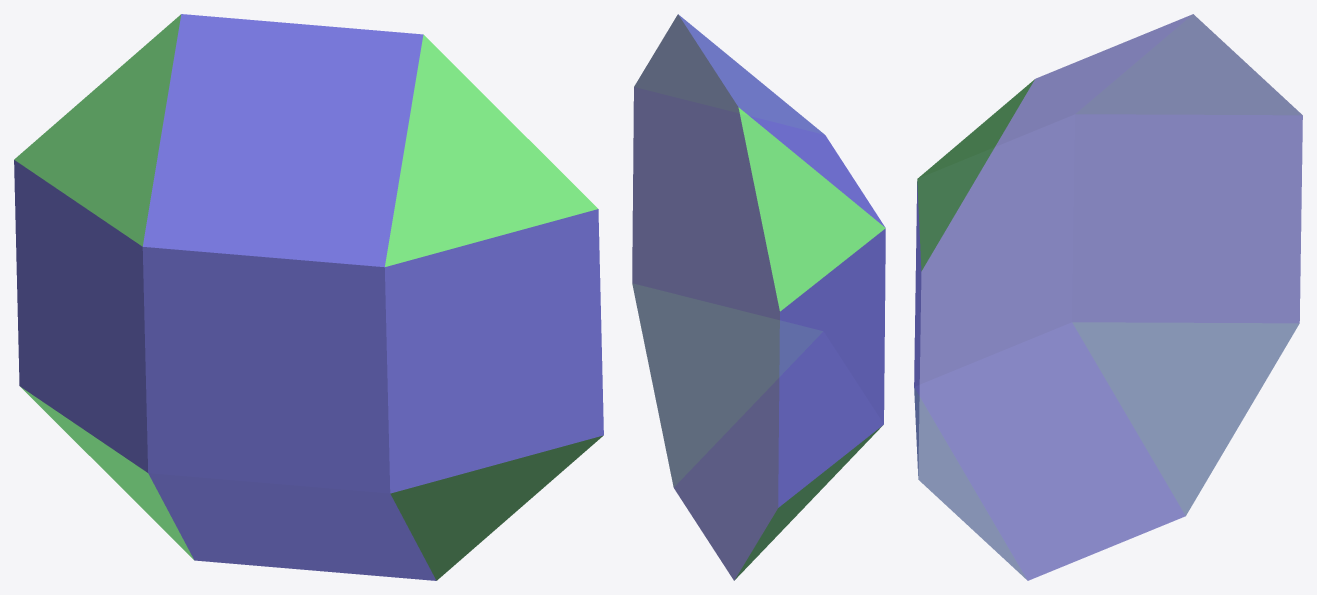
The model's file is j4_square_cupola.obj.
The picture shows the model from 3 angles, left to right: view 1: azimuth 30°, elevation 25°; view 2: azimuth 150°, elevation 25°; view 3: azimuth 270°, elevation 25°; orthographic projection. The views are drawn at different scales.
Size of the model in its own units: 1.48 by 2.05 by 1.43.
